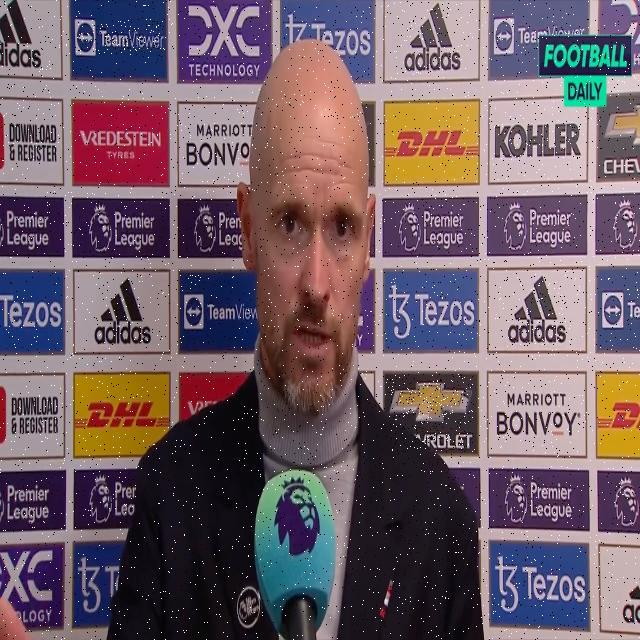Adidas: (507, 276, 567, 346), (403, 2, 462, 73), (94, 276, 153, 346)
Chevrolet: (390, 374, 474, 452)
Kohler: (494, 122, 581, 158)
TeamViewer: (494, 19, 585, 56), (76, 19, 165, 54)
